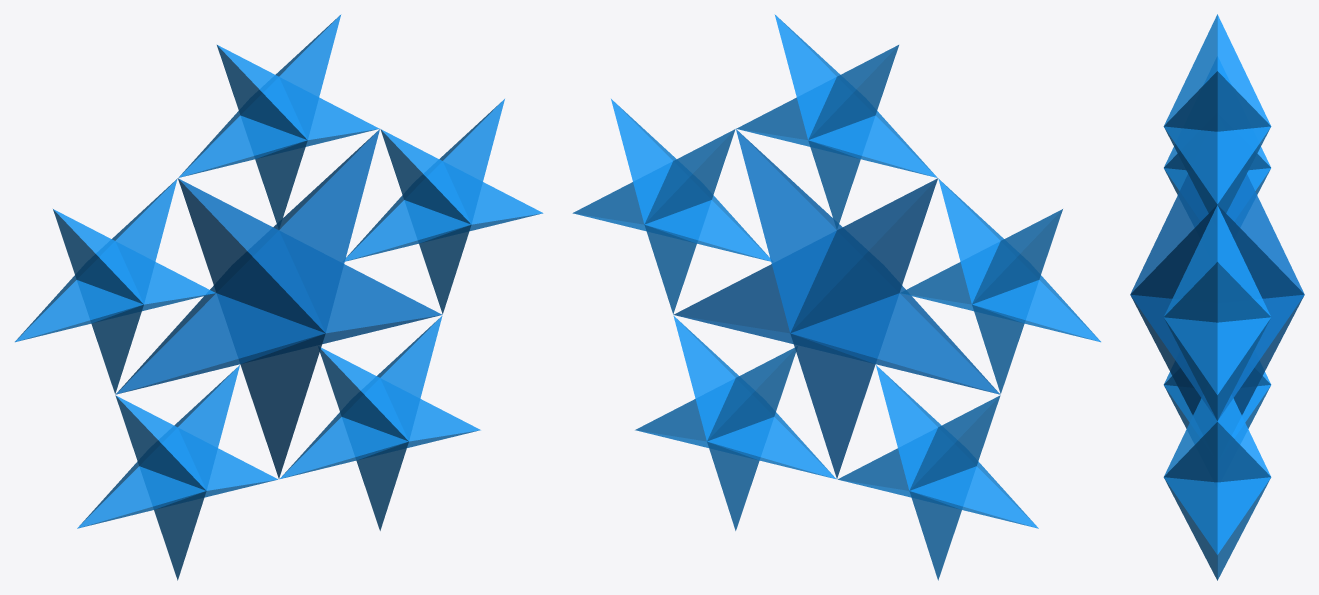
File: fractalpentagrammicdipyramidA1.glb
The picture shows the model from 3 angles, left to right: view 1: azimuth 30°, elevation 25°; view 2: azimuth 150°, elevation 25°; view 3: azimuth 270°, elevation 25°; orthographic projection. The views are drawn at different scales.
Size of the model in its own units: 7.85 by 7.46 by 2.4.
